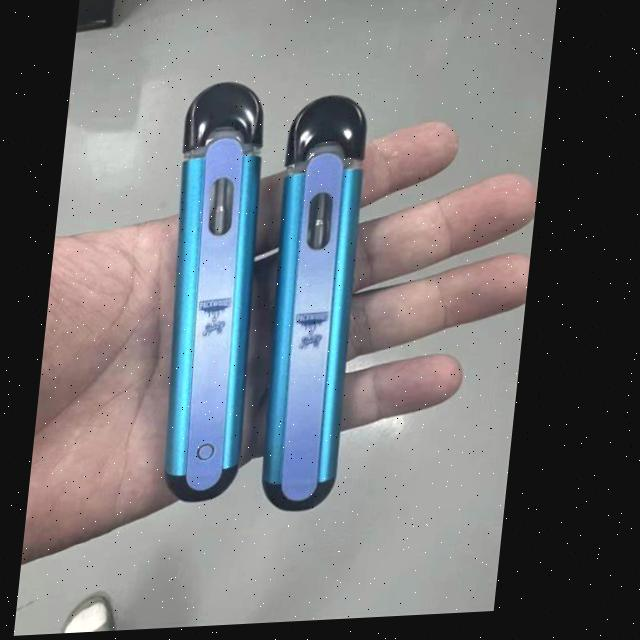vape: (154, 81, 281, 505), (258, 96, 380, 518)
